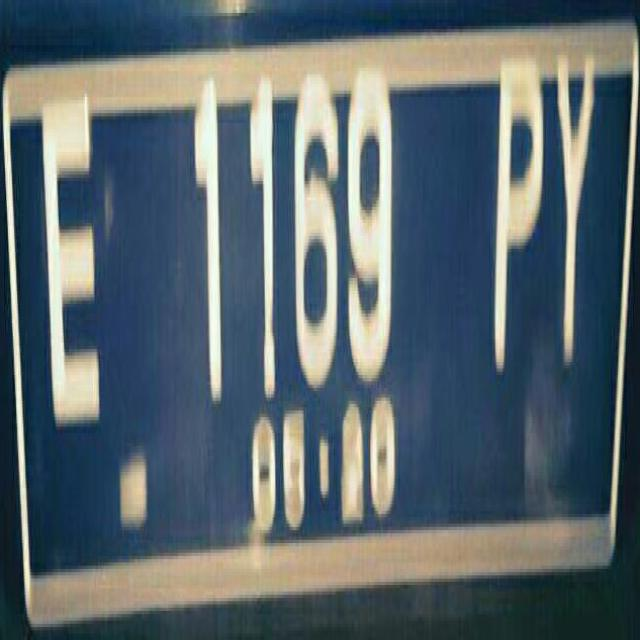plate: (5, 42, 628, 579)
